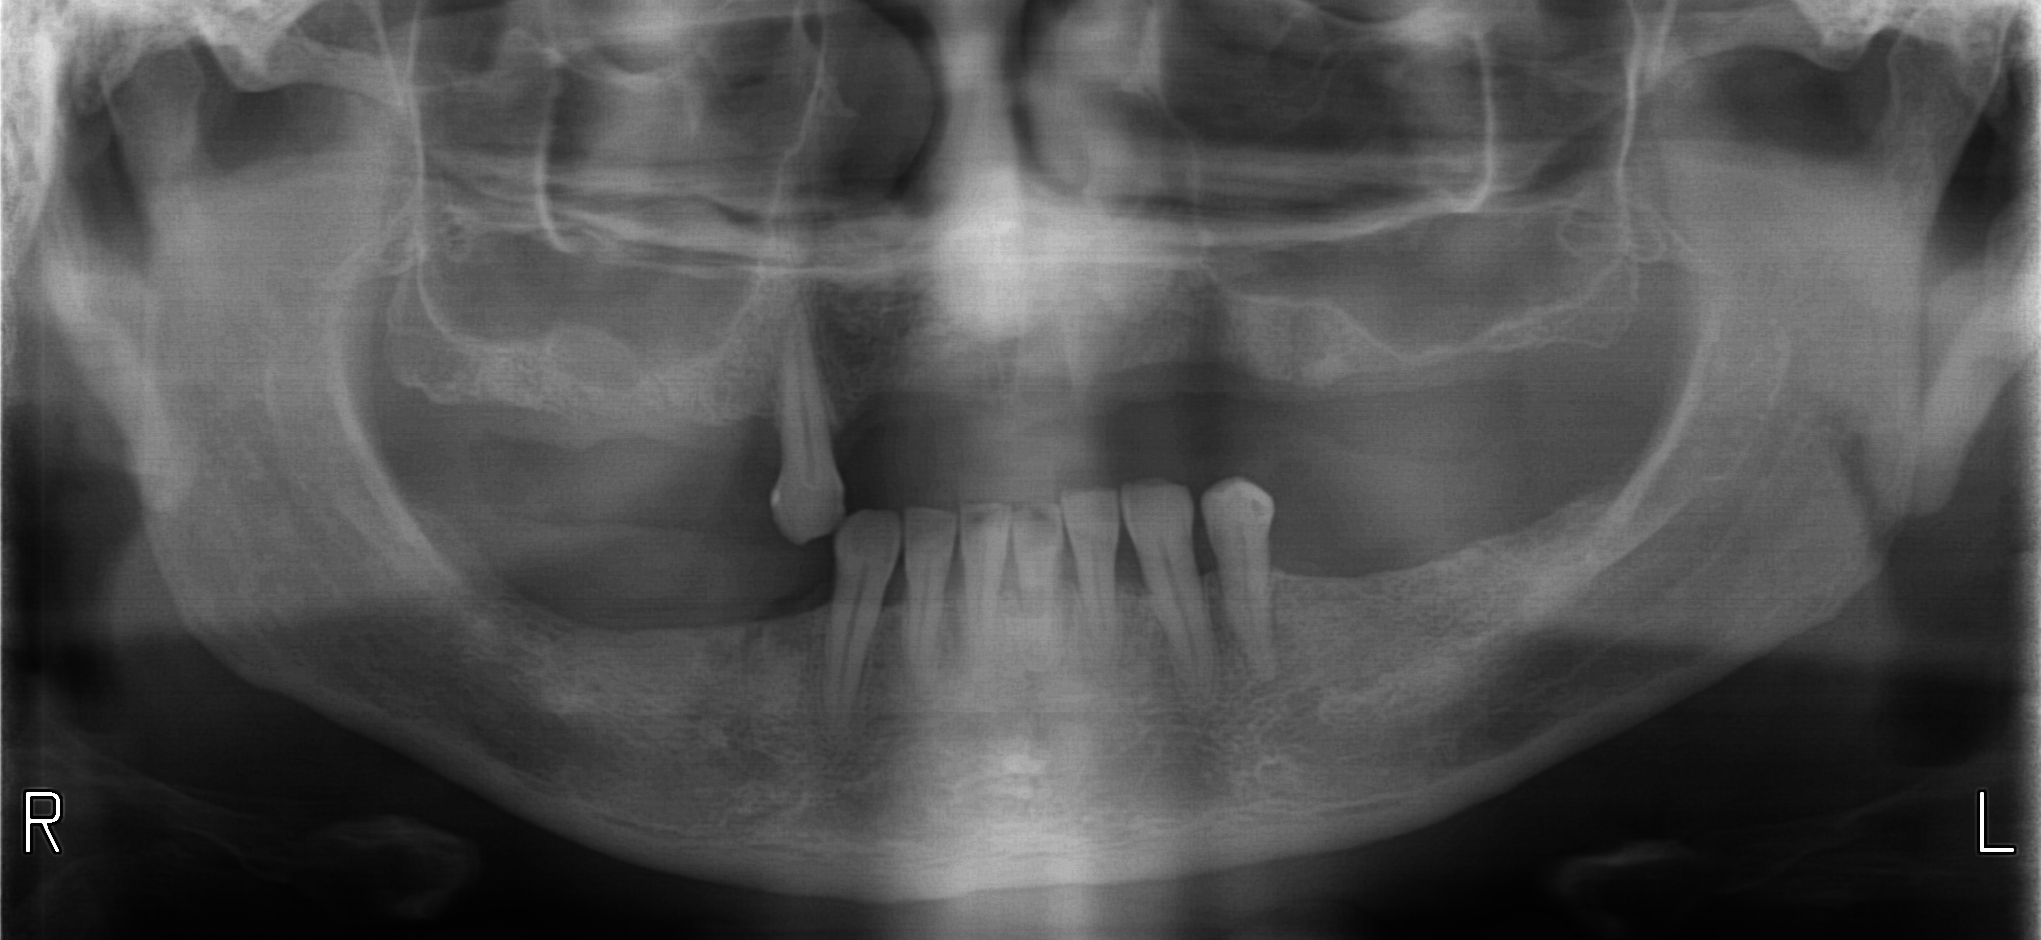cavity: (1252, 501, 1263, 509)
